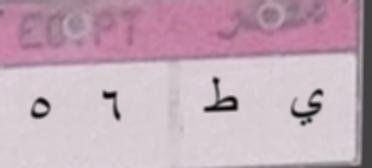5: (25, 93, 56, 126)
6: (99, 80, 127, 132)
Taa: (200, 71, 242, 119)
yaa: (288, 86, 329, 132)
